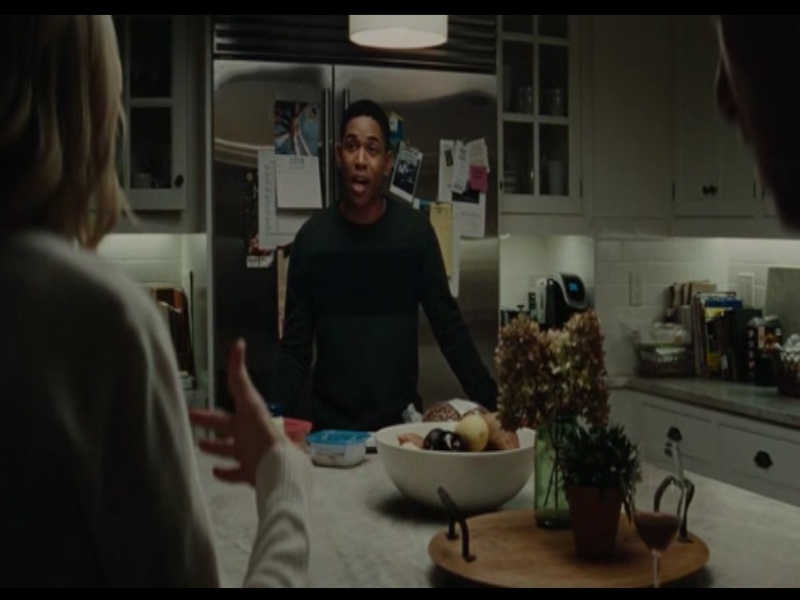TsisyArotava: (330, 109, 394, 216)
